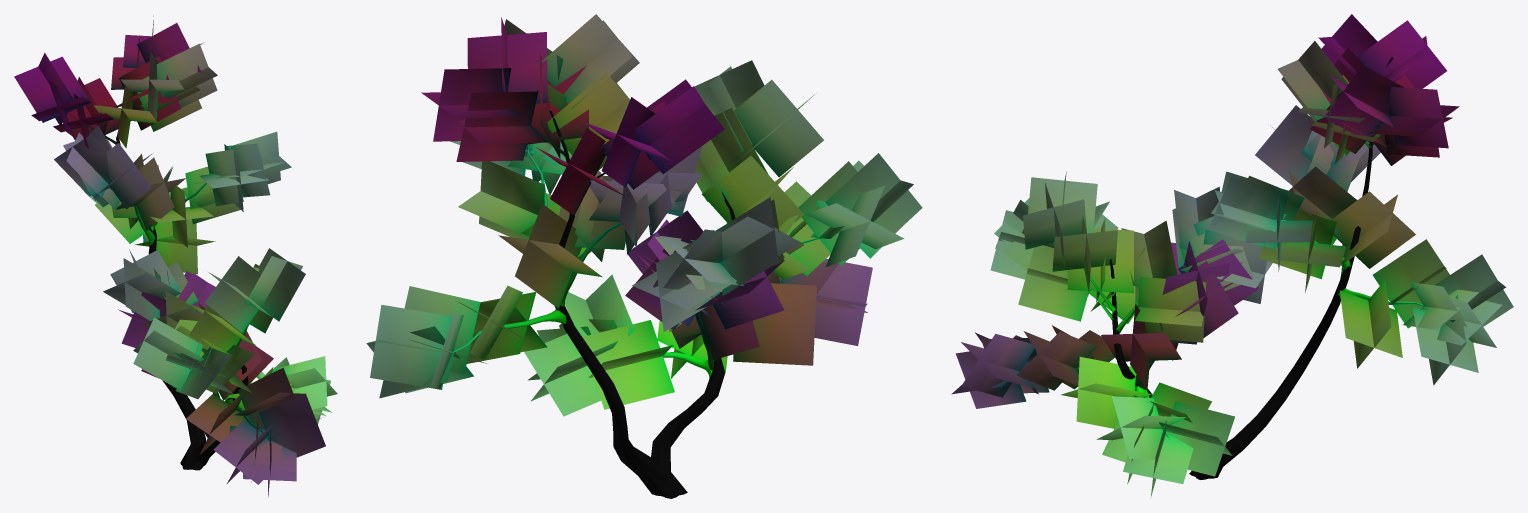
The model's file is URP_P3_Tree_7_LOD_1.fbx.
The picture shows the model from 3 angles, left to right: view 1: azimuth 30°, elevation 25°; view 2: azimuth 150°, elevation 25°; view 3: azimuth 270°, elevation 25°; orthographic projection. The views are drawn at different scales.
Parts seen in each view (by area): view 1: Tree_7_LOD_1; view 2: Tree_7_LOD_1; view 3: Tree_7_LOD_1.
Part boxes in pixels (x1,y1,x2,y2): Tree_7_LOD_1: [14, 15, 337, 496]; Tree_7_LOD_1: [366, 14, 922, 498]; Tree_7_LOD_1: [951, 14, 1513, 497].
Bounding box in the file's own units: 527 × 814 × 947.
